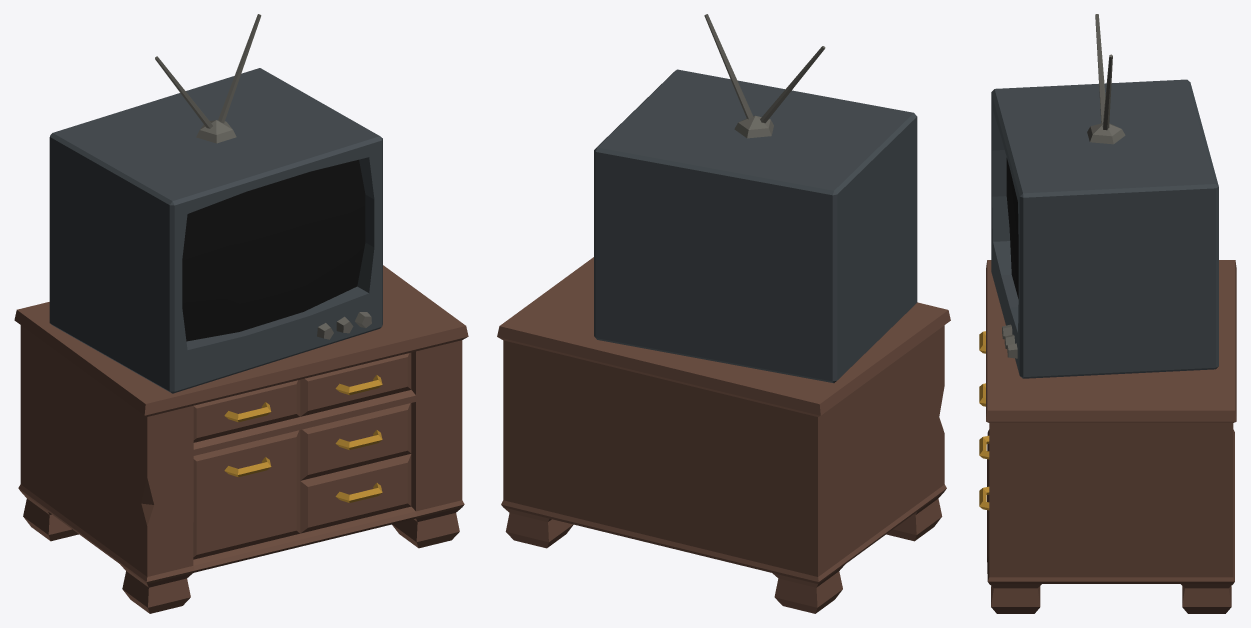
File: LPHorror_Telly.fbx
3 views of the same model, side by side, from view 1: azimuth 30°, elevation 25°; view 2: azimuth 150°, elevation 25°; view 3: azimuth 270°, elevation 25° (orthographic). The views are drawn at different scales.
Parts seen in each view (by area): view 1: Telly; view 2: Telly; view 3: Telly.
Boxes of the visible parts, x1=… form: Telly: x1=14, y1=14, x2=468, y2=613; Telly: x1=497, y1=14, x2=950, y2=613; Telly: x1=979, y1=14, x2=1236, y2=613.
Bounding box in the file's own units: 145 × 221 × 104.
